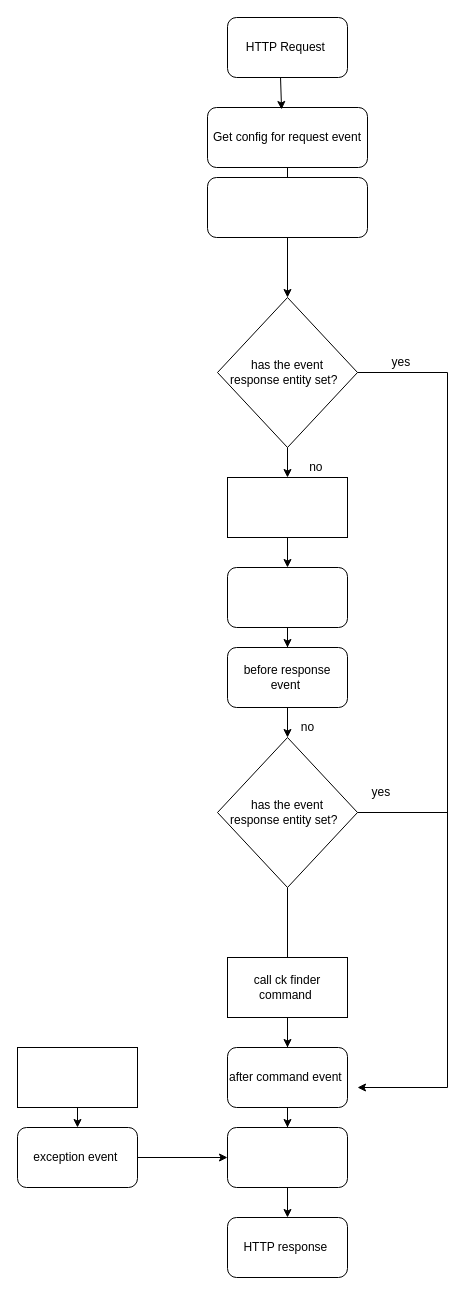
This 473x1295 diagram has some shape labels left out. The shapes that lost their labels are listed below. From the top down, each one's centre as x and y in pixels, then its label:
pixel 287 207: request event
pixel 287 507: authentication check
pixel 287 597: resolve command event
pixel 77 1077: exception
pixel 287 1157: response event
